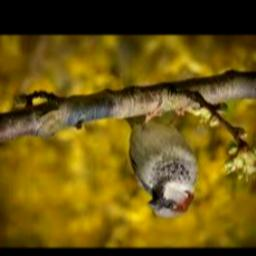Sparrow: (123, 109, 198, 219)
